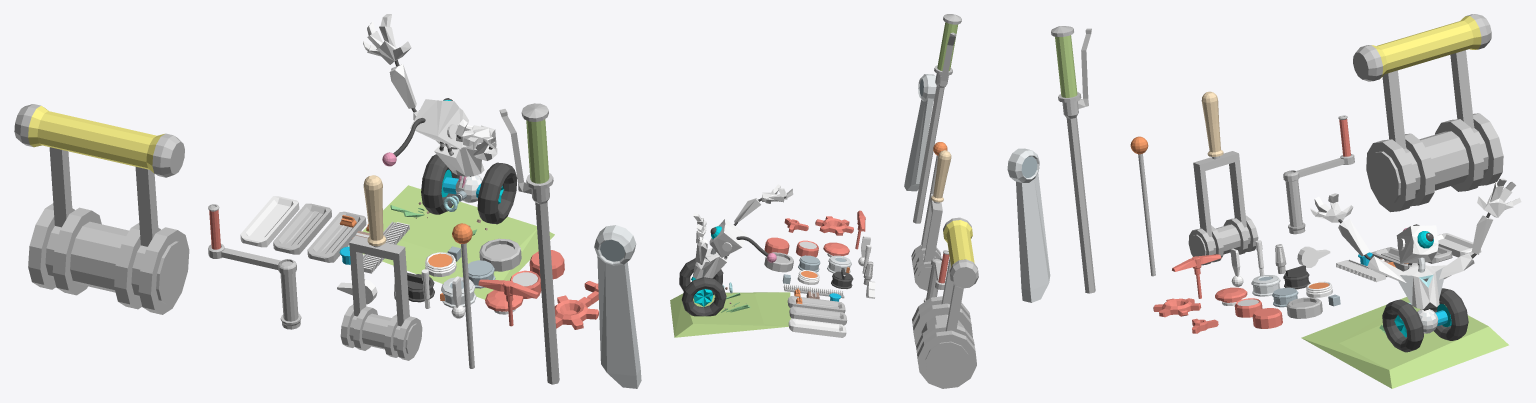
File: robot.fbx
3 views of the same model, side by side, from view 1: azimuth 30°, elevation 25°; view 2: azimuth 150°, elevation 25°; view 3: azimuth 270°, elevation 25° (orthographic). The views are drawn at different scales.
Parts seen in each view (by area): view 1: group_329690535, group_1837781442; view 2: group_329690535, group_1837781442; view 3: group_329690535, group_1837781442.
Boxes of the visible parts, <box> form: group_329690535: <box>14,103,641,388</box>; group_1837781442: <box>349,14,554,299</box>; group_329690535: <box>764,14,978,388</box>; group_1837781442: <box>670,184,793,337</box>; group_329690535: <box>1007,14,1503,333</box>; group_1837781442: <box>1301,178,1521,388</box>.
Size of the model in its own units: 1.46 by 0.9118 by 1.55.
